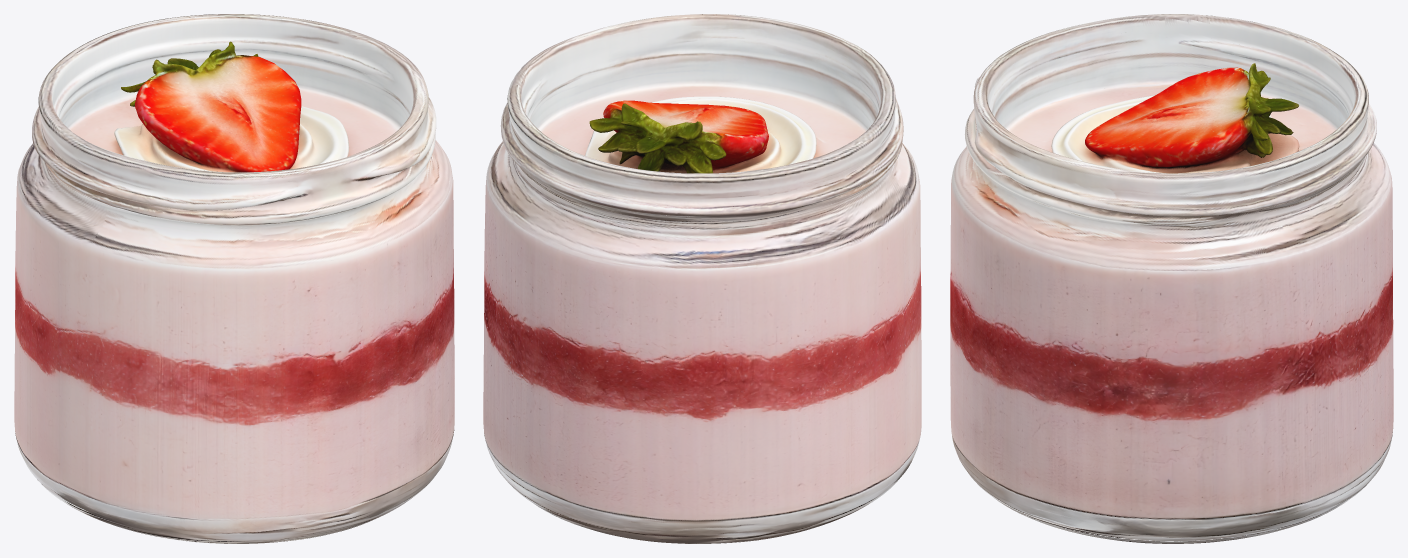
Rendered from van.glb.
3 renders of one model, left to right at view 1: azimuth 30°, elevation 25°; view 2: azimuth 150°, elevation 25°; view 3: azimuth 270°, elevation 25°, orthographic.
Parts seen in each view (by area): view 1: model; view 2: model; view 3: model.
Boxes of the visible parts, bbox=[...] form: model: bbox=[14, 14, 454, 543]; model: bbox=[483, 14, 921, 543]; model: bbox=[950, 14, 1393, 543].
Bounding box in the file's own units: 1.04 × 1 × 1.04.
Materials: 1 (1 with a texture image).
